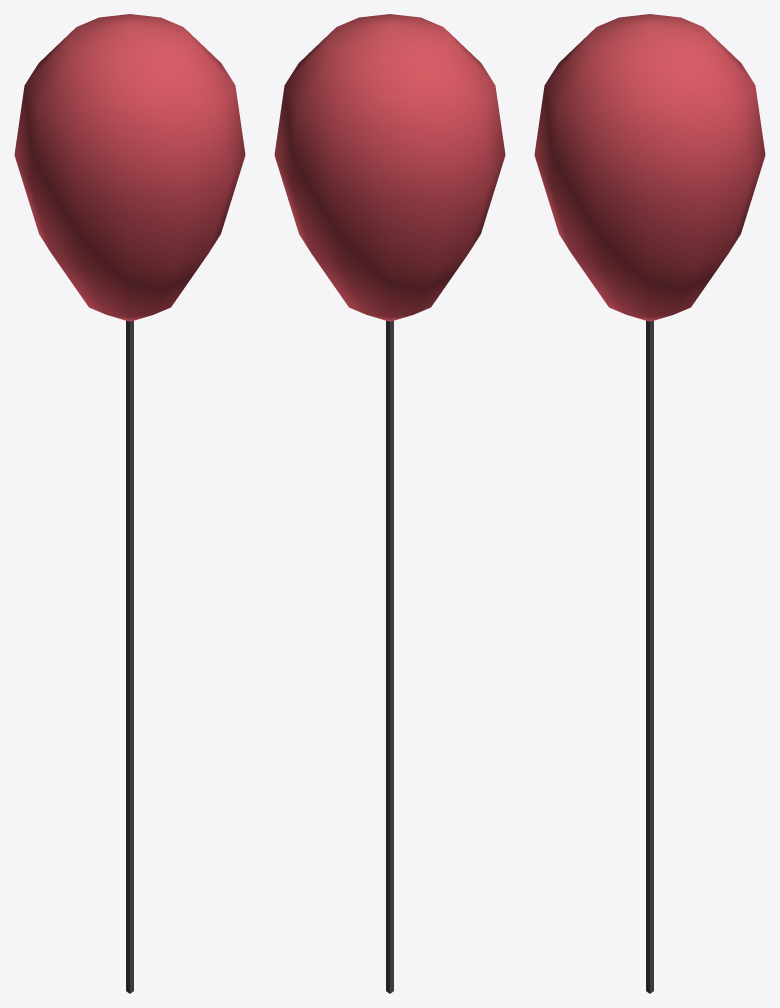
File: Шар.fbx
3 renders of one model, left to right at view 1: azimuth 30°, elevation 25°; view 2: azimuth 150°, elevation 25°; view 3: azimuth 270°, elevation 25°, orthographic.
Parts seen in each view (by area): view 1: Шар; view 2: Шар; view 3: Шар.
Part boxes in pixels (x1,y1,x2,y2): Шар: (14,14,245,993); Шар: (274,14,505,993); Шар: (534,14,765,993).
Size of the model in its own units: 15.7 by 72.53 by 15.7.
